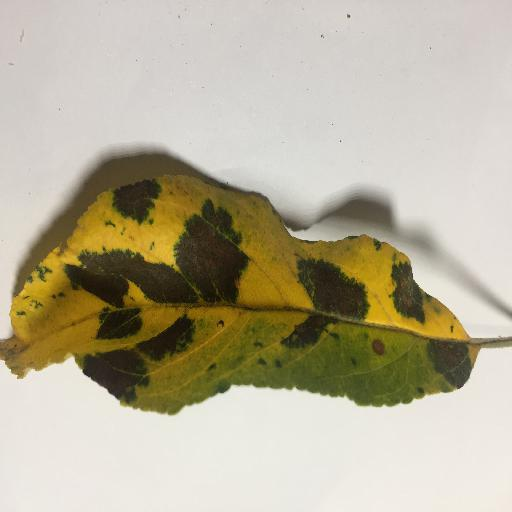Brown_Spot: (65, 194, 240, 407), (276, 246, 369, 350), (387, 260, 433, 320), (423, 334, 468, 394)
